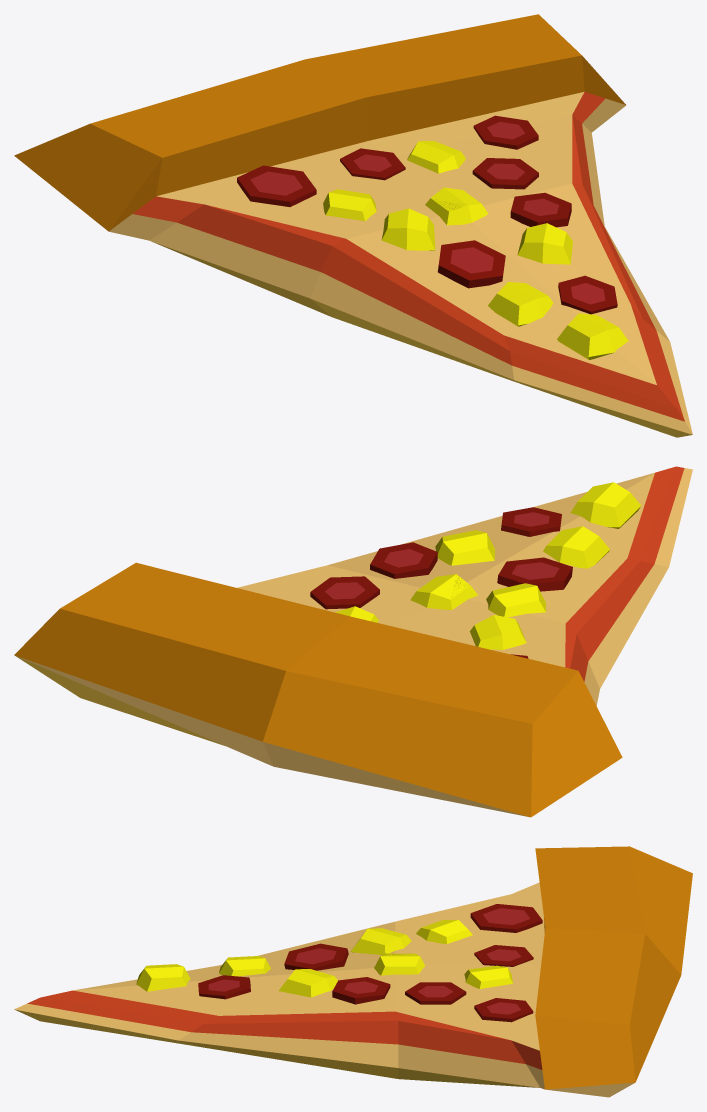
Rendered from Pineapple Pizza Slice.fbx.
3 views of the same model, one above another, from view 1: azimuth 30°, elevation 25°; view 2: azimuth 150°, elevation 25°; view 3: azimuth 270°, elevation 25° (orthographic). The views are drawn at different scales.
Visible parts, largest first — view 1: Pineapple Pizza Slice; view 2: Pineapple Pizza Slice; view 3: Pineapple Pizza Slice.
Part boxes in pixels (<box>): Pineapple Pizza Slice: <box>14,14,692,437</box>; Pineapple Pizza Slice: <box>14,466,692,817</box>; Pineapple Pizza Slice: <box>14,846,692,1097</box>.
Size of the model in its own units: 15.39 by 3.46 by 21.11.
